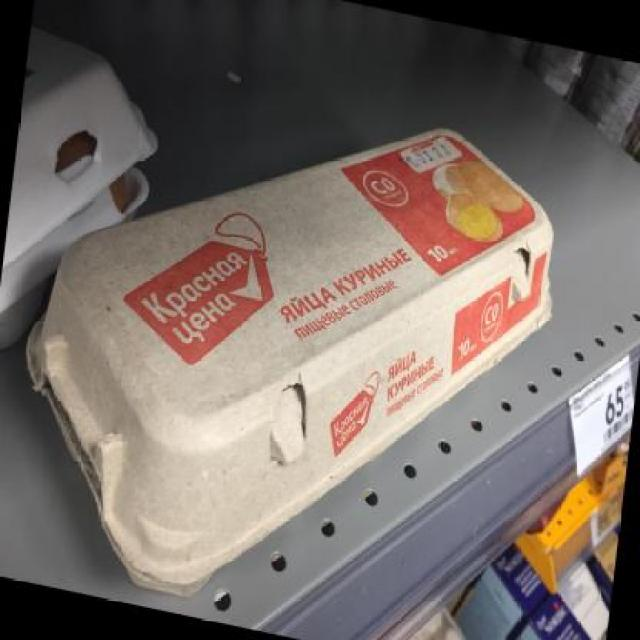Egg: (4, 47, 598, 639), (425, 515, 561, 639), (463, 561, 607, 640)
